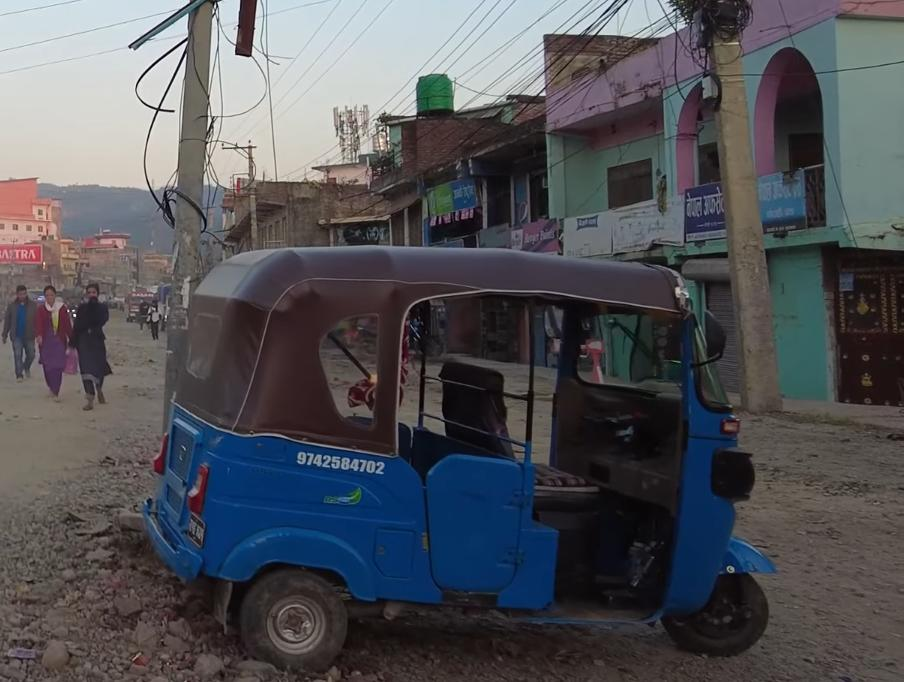auto_rickshaw: (130, 233, 778, 669)
